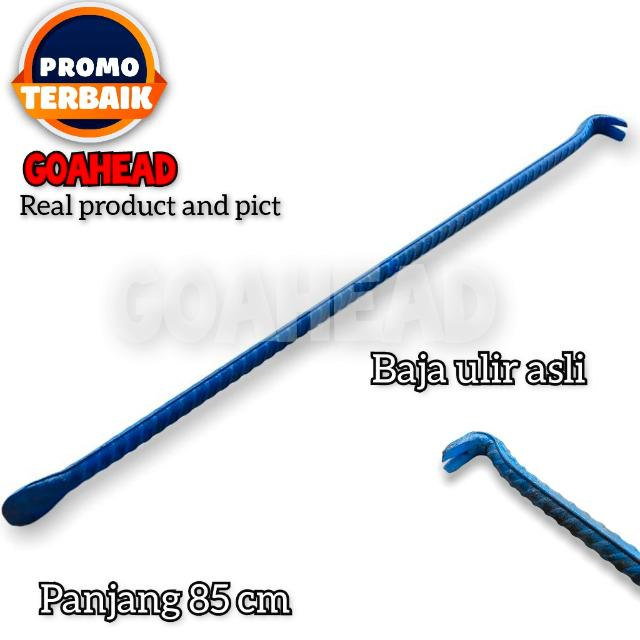crow bar: (2, 103, 634, 541)
